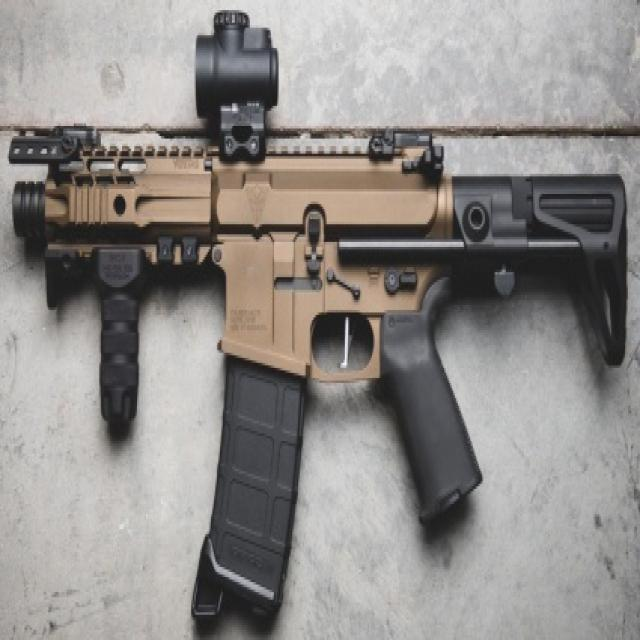rifle: (4, 3, 635, 640)
